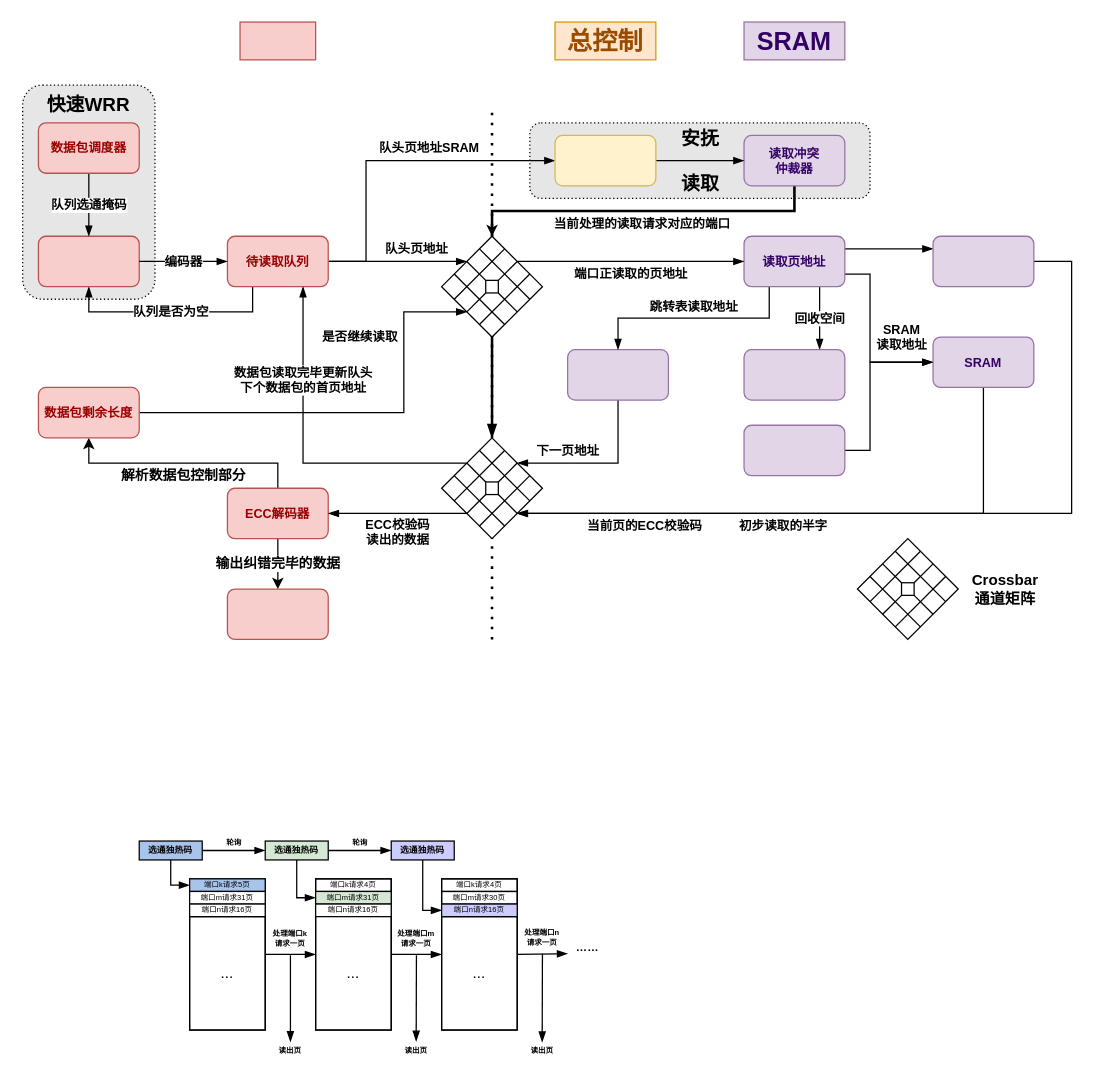
Image size: 1104x1089. Some labels were removed from this diagram. The box of each missing label's shape, as (x1, y1, x2, y2) in pixels:
ECC编码存储: (932, 235, 1034, 287)
空闲队列: (743, 348, 845, 400)
端口: (239, 21, 316, 60)
读出前端: (226, 588, 328, 639)
读取切片计数器: (743, 424, 845, 476)
读取请求 选通信号: (554, 134, 656, 186)
跳转表: (566, 348, 668, 400)
队列状态: (37, 235, 139, 287)
